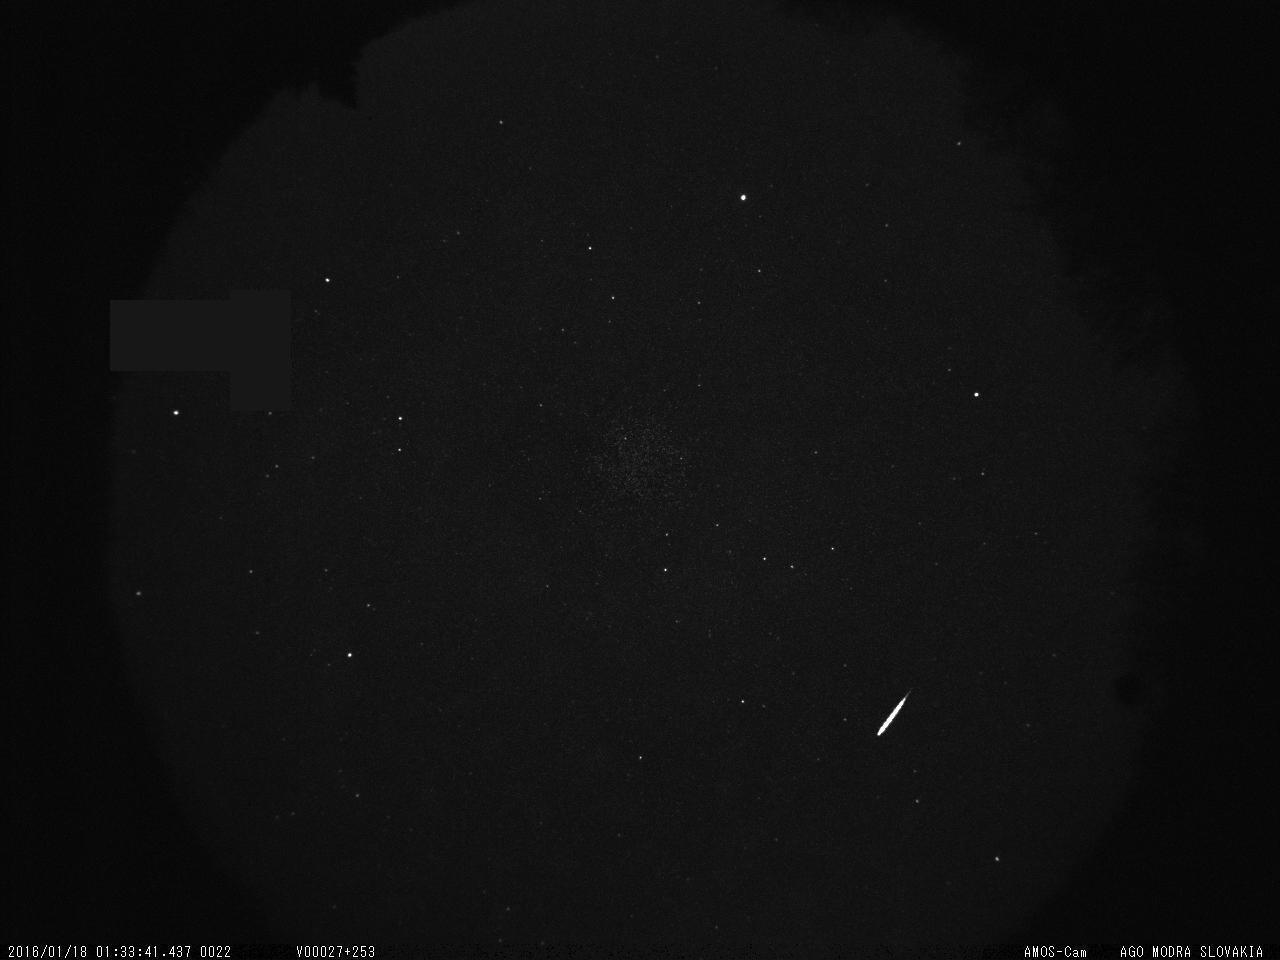Meteor: (862, 682, 919, 748)
